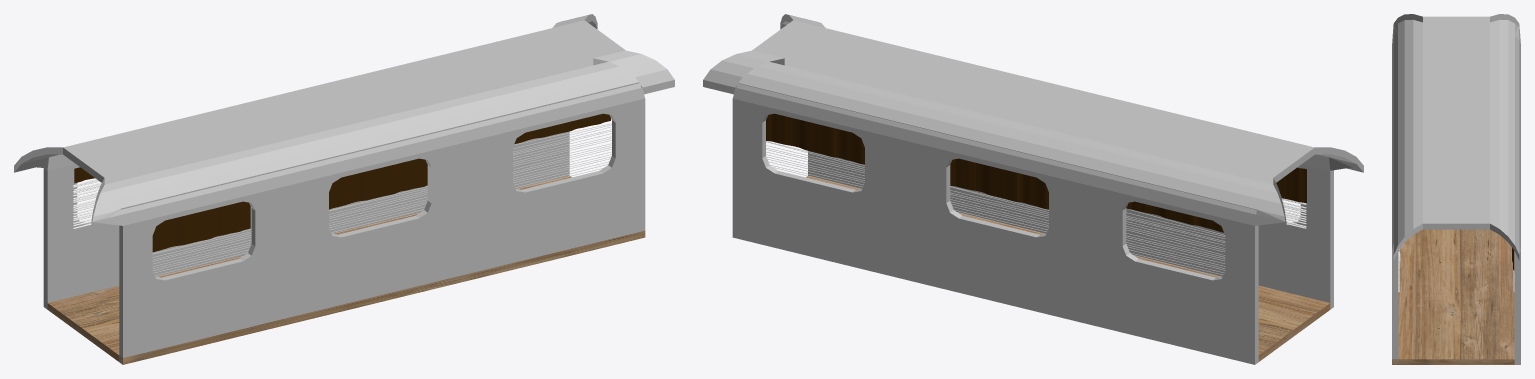
File: rv inside.fbx
3 views of the same model, side by side, from view 1: azimuth 30°, elevation 25°; view 2: azimuth 150°, elevation 25°; view 3: azimuth 270°, elevation 25° (orthographic). The views are drawn at different scales.
Parts seen in each view (by area): view 1: Cube.002, Cube, GP_Layer.004, Cube.004, Cube.006, Cube.005, Cube.008; view 2: Cube.002, GP_Layer.004, Cube, Cube.008, Cube.001, Cube.003; view 3: Cube.002, Cube.
Boxes of the visible parts, x1,y1,x2,y2 form: Cube.002: (14,14,674,364); Cube: (47,175,645,364); GP_Layer.004: (74,113,610,252); Cube.004: (513,123,611,188); Cube.006: (152,229,251,276); Cube.005: (329,186,427,233); Cube.008: (73,179,101,228); Cube.002: (703,14,1363,364); GP_Layer.004: (766,113,1306,232); Cube: (806,175,1330,361); Cube.008: (1126,208,1225,276); Cube.001: (766,141,864,189); Cube.003: (950,186,1048,233); Cube.002: (1392,14,1520,364); Cube: (1392,229,1514,364).
Bounding box in the file's own units: 894 × 254 × 210.
